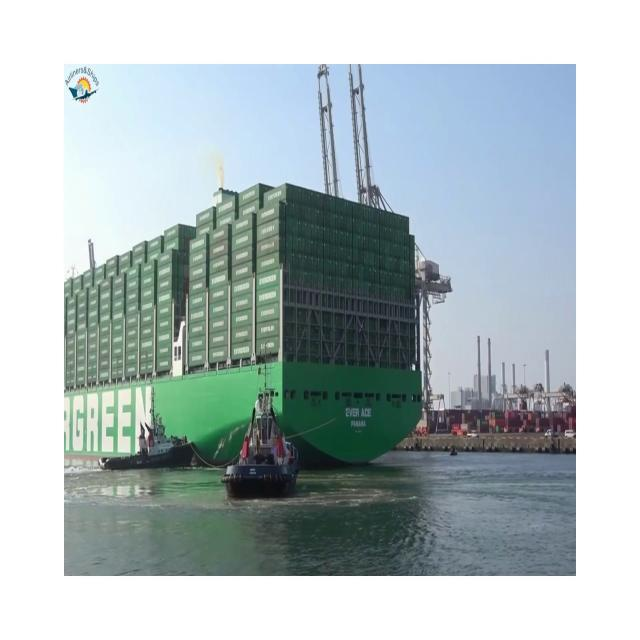OCR: (67, 375, 156, 468), (339, 398, 384, 445)
